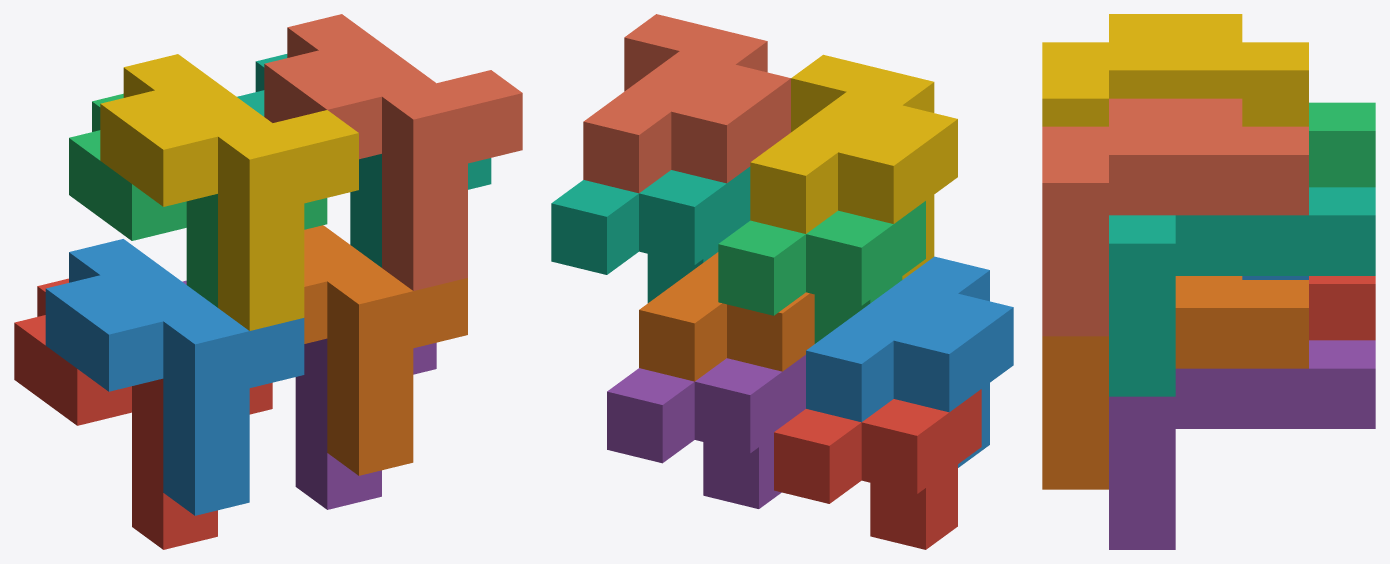
The model's file is tiling.obj.
The picture shows the model from 3 angles, left to right: view 1: azimuth 30°, elevation 25°; view 2: azimuth 150°, elevation 25°; view 3: azimuth 270°, elevation 25°; orthographic projection. The views are drawn at different scales.
Visible parts, largest first — view 1: copy_1_domain_4, copy_1_domain_2, copy_1_domain_8, copy_1_domain_6, copy_1_domain_1, copy_1_domain_3, copy_1_domain_5, copy_1_domain_7; view 2: copy_1_domain_4, copy_1_domain_8, copy_1_domain_2, copy_1_domain_1, copy_1_domain_5, copy_1_domain_3, copy_1_domain_7, copy_1_domain_6; view 3: copy_1_domain_8, copy_1_domain_7, copy_1_domain_5, copy_1_domain_4, copy_1_domain_6, copy_1_domain_3, copy_1_domain_1.
Part boxes in pixels (x1,y1,x2,y2): copy_1_domain_4: (100,54,358,330); copy_1_domain_2: (45,239,304,515); copy_1_domain_8: (264,14,522,290); copy_1_domain_6: (304,225,467,475); copy_1_domain_1: (14,278,272,549); copy_1_domain_3: (69,93,327,307); copy_1_domain_5: (182,280,436,509); copy_1_domain_7: (237,54,491,267); copy_1_domain_4: (750,54,957,279); copy_1_domain_8: (583,14,790,193); copy_1_domain_2: (806,256,1013,467); copy_1_domain_1: (774,389,981,549); copy_1_domain_5: (607,355,805,508); copy_1_domain_3: (718,201,925,343); copy_1_domain_7: (551,166,750,302); copy_1_domain_6: (639,252,814,381); copy_1_domain_8: (1042,98,1308,336); copy_1_domain_7: (1109,187,1375,396); copy_1_domain_5: (1109,340,1375,549); copy_1_domain_4: (1042,14,1308,126); copy_1_domain_6: (1042,276,1308,489); copy_1_domain_3: (1309,102,1375,187); copy_1_domain_1: (1309,276,1375,340).
Size of the model in its own units: 7 by 7 by 5.
